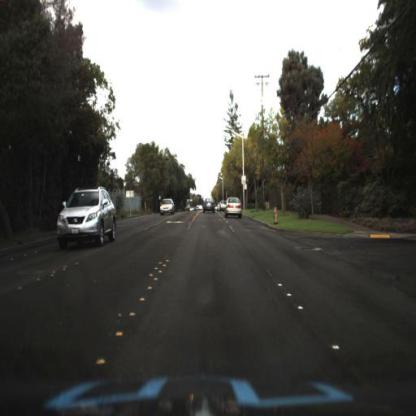car: (57, 185, 118, 252), (226, 194, 244, 219), (161, 197, 175, 216), (203, 195, 214, 215), (217, 198, 227, 210)
